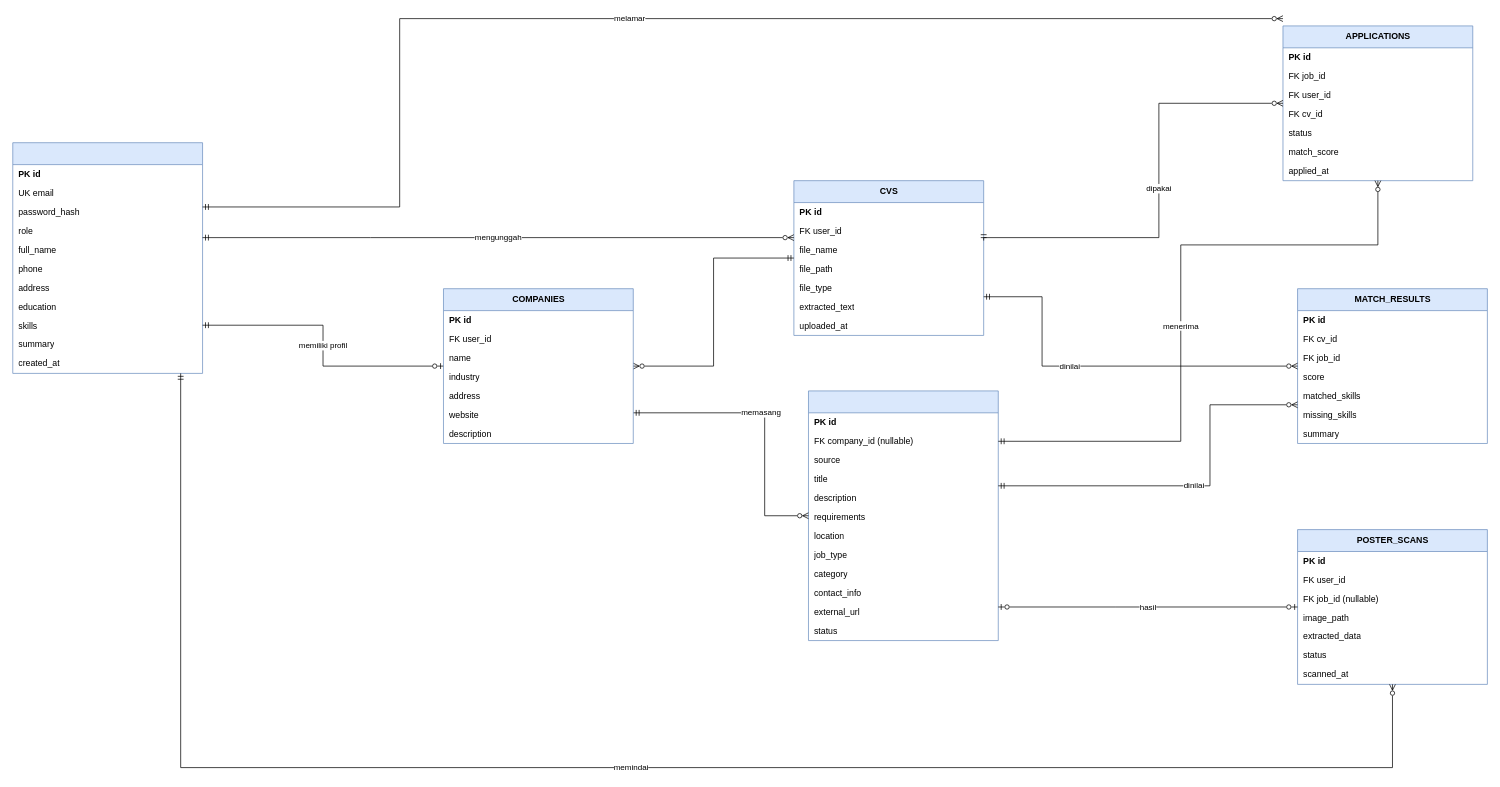
Some shapes in this 1500 by 787 pixel diagram are drawn without their labels. The shapes that lost their labels are listed below. From the top down, each one's box as (x1, y1, x2, y2) in pixels, then its label:
(12, 142, 203, 373): USERS
(808, 390, 998, 641): JOBS
